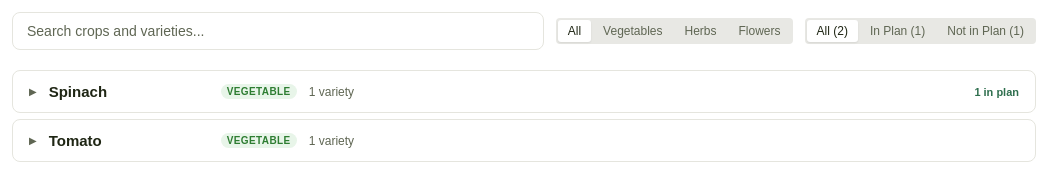
Test: LibraryView › status filter › filters to show only not-in-plan crop groups
The width and height of the screenshot is (1048, 179).
Click the button "Not in Plan (1)" at [986, 31], box 937,20 -> 1034,42
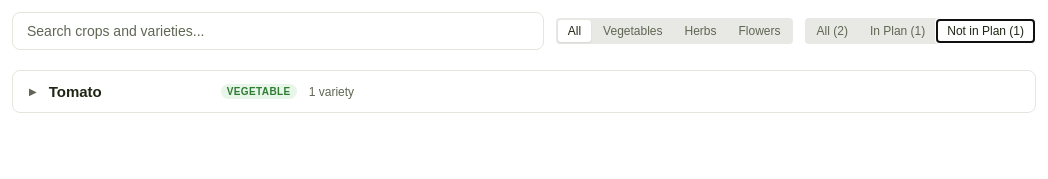
Expected: the text "Tomato" is shown, 49,83 -> 102,100
Expected: the button "Spinach" is gone
